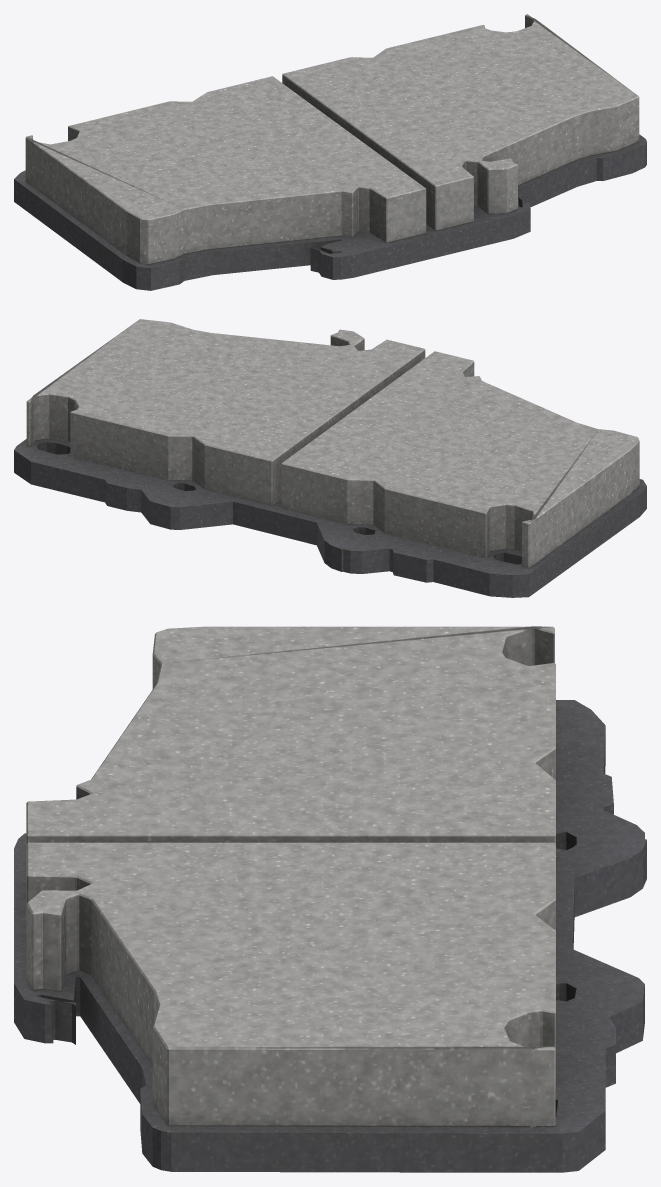
File: brake_pad_draco.glb
3 views of the same model, one above another, from view 1: azimuth 30°, elevation 25°; view 2: azimuth 150°, elevation 25°; view 3: azimuth 270°, elevation 25° (orthographic). The views are drawn at different scales.
Visible parts, largest first — view 1: BrakePad; view 2: BrakePad; view 3: BrakePad.
Boxes of the visible parts, x1,y1,x2,y2 form: BrakePad: (14, 14, 646, 290); BrakePad: (14, 319, 646, 597); BrakePad: (14, 626, 646, 1172).
Bounding box in the file's own units: 0.119 × 0.015 × 0.0732.
Materials: 2 (2 with a texture image).
